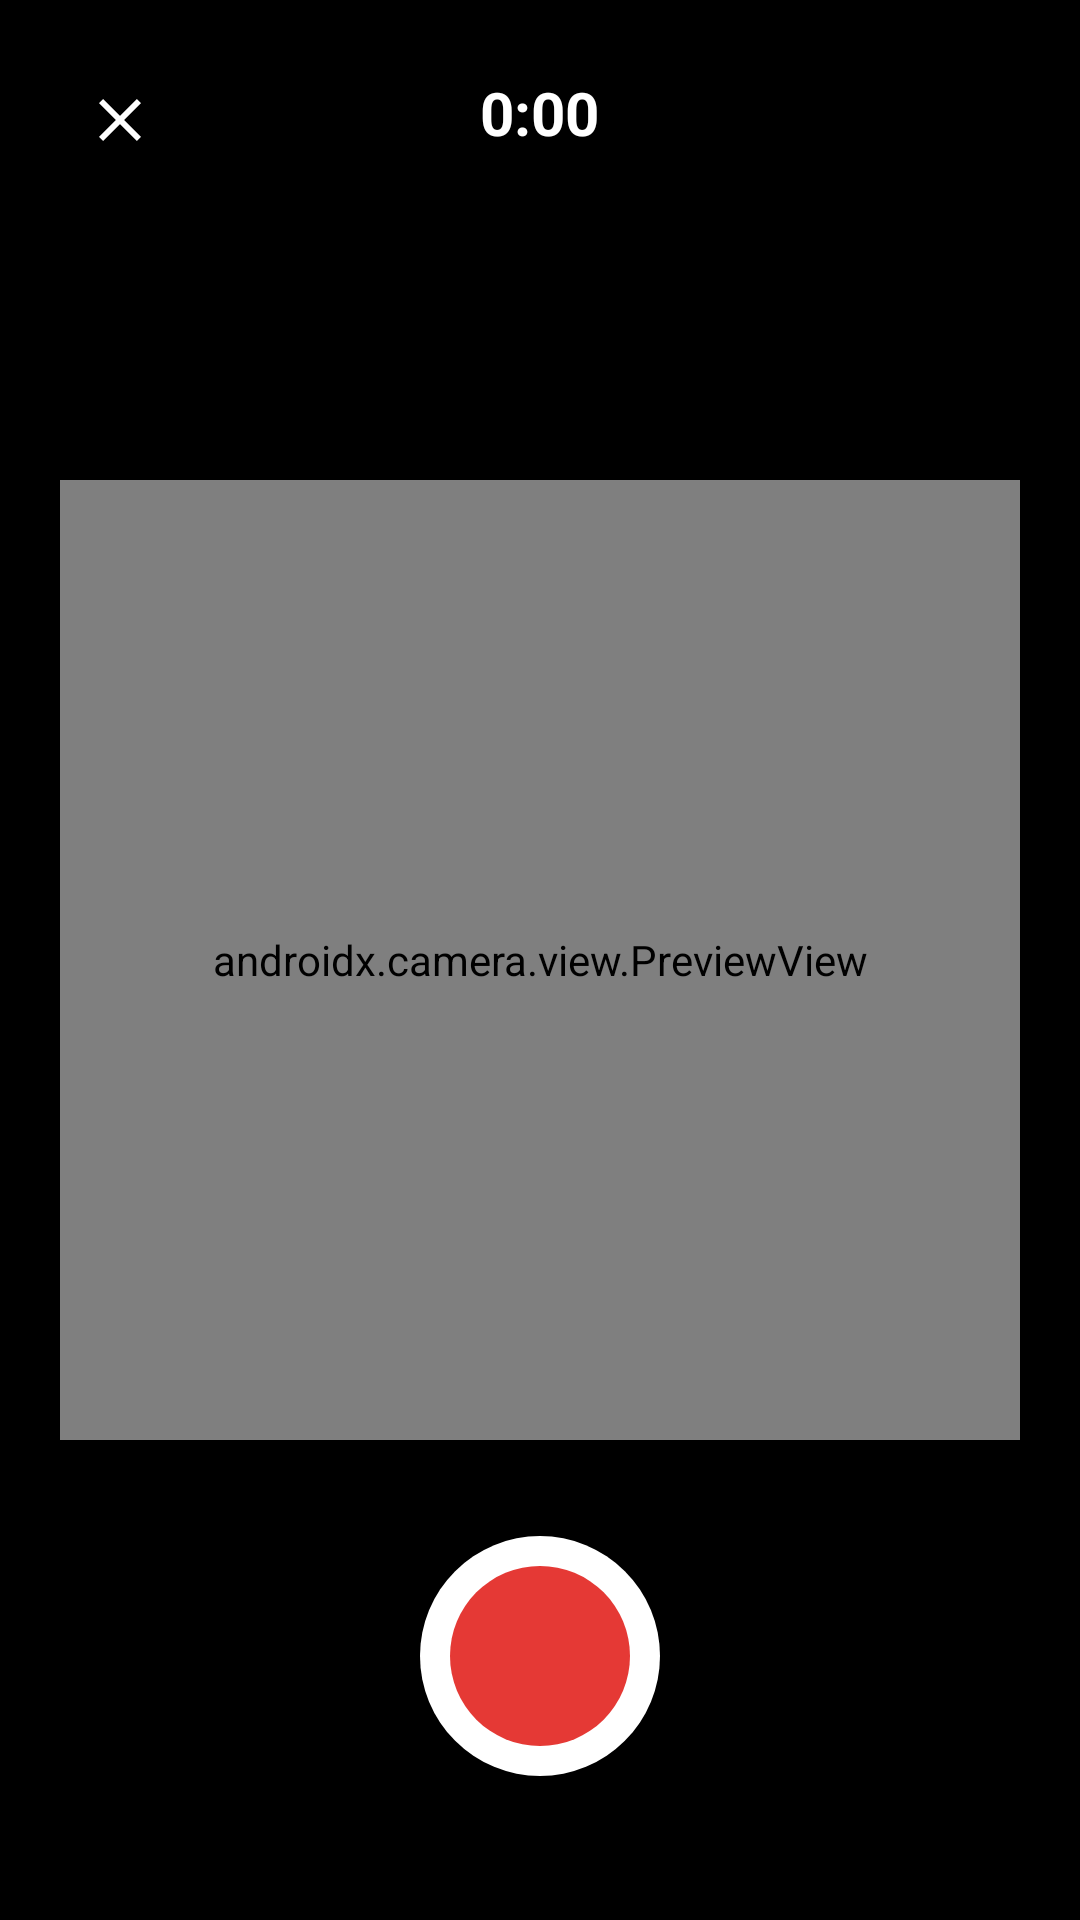

Where to tap for icons on this 1080px×1920px app screen, as (x,y):
Cancel: (120,120)
